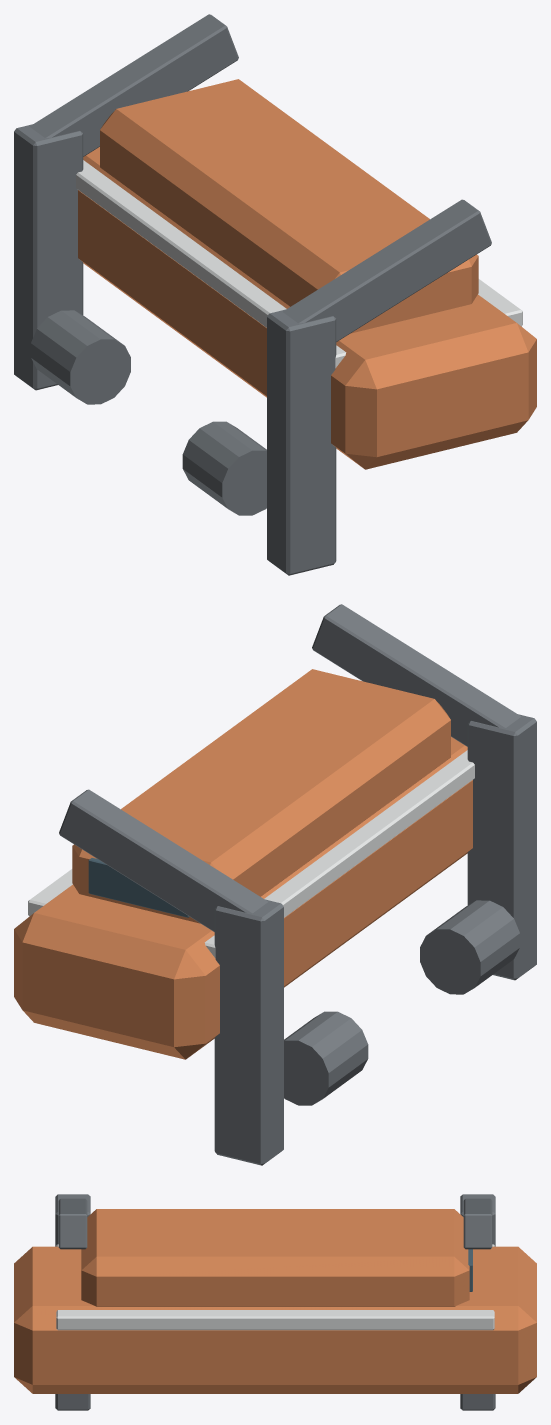
Rendered from ship_lifeboat_davit.glb.
3 renders of one model, top to bottom at view 1: azimuth 30°, elevation 25°; view 2: azimuth 150°, elevation 25°; view 3: azimuth 270°, elevation 25°, orthographic. The views are drawn at different scales.
Parts seen in each view (by area): view 1: BoatCanopy, BoatHull, DavitBase_-2.4, DavitBase_2.4, DavitArm_-2.4, DavitArm_2.4, BoatStripe, Winch_2.4, Winch_-2.4; view 2: BoatCanopy, BoatHull, DavitBase_2.4, DavitBase_-2.4, DavitArm_2.4, DavitArm_-2.4, BoatStripe, Winch_-2.4, Winch_2.4, BoatWin; view 3: BoatHull, BoatCanopy, BoatStripe, DavitArm_-2.4, DavitArm_2.4, DavitBase_-2.4, DavitBase_2.4.
Boxes of the visible parts, x1,y1,x2,y2 form: BoatCanopy: [100, 79, 478, 333]; BoatHull: [78, 147, 536, 469]; DavitBase_-2.4: [267, 309, 336, 575]; DavitBase_2.4: [14, 124, 83, 390]; DavitArm_-2.4: [283, 199, 491, 341]; DavitArm_2.4: [29, 14, 238, 156]; BoatStripe: [76, 160, 522, 368]; Winch_2.4: [31, 310, 130, 404]; Winch_-2.4: [182, 421, 266, 515]; BoatCanopy: [72, 669, 450, 923]; BoatHull: [14, 737, 472, 1059]; DavitBase_2.4: [214, 899, 283, 1165]; DavitBase_-2.4: [467, 714, 536, 980]; DavitArm_2.4: [59, 789, 267, 931]; DavitArm_-2.4: [312, 604, 521, 746]; BoatStripe: [28, 750, 474, 958]; Winch_-2.4: [420, 900, 519, 994]; Winch_2.4: [284, 1011, 368, 1105]; BoatWin: [88, 858, 189, 917]; BoatHull: [14, 1246, 536, 1393]; BoatCanopy: [81, 1209, 469, 1306]; BoatStripe: [56, 1244, 494, 1330]; DavitArm_-2.4: [58, 1198, 87, 1249]; DavitArm_2.4: [463, 1198, 492, 1249]; DavitBase_-2.4: [55, 1194, 90, 1410]; DavitBase_2.4: [460, 1194, 495, 1410].
Bounding box in the file's own units: 2.85 × 3.32 × 6.2.
